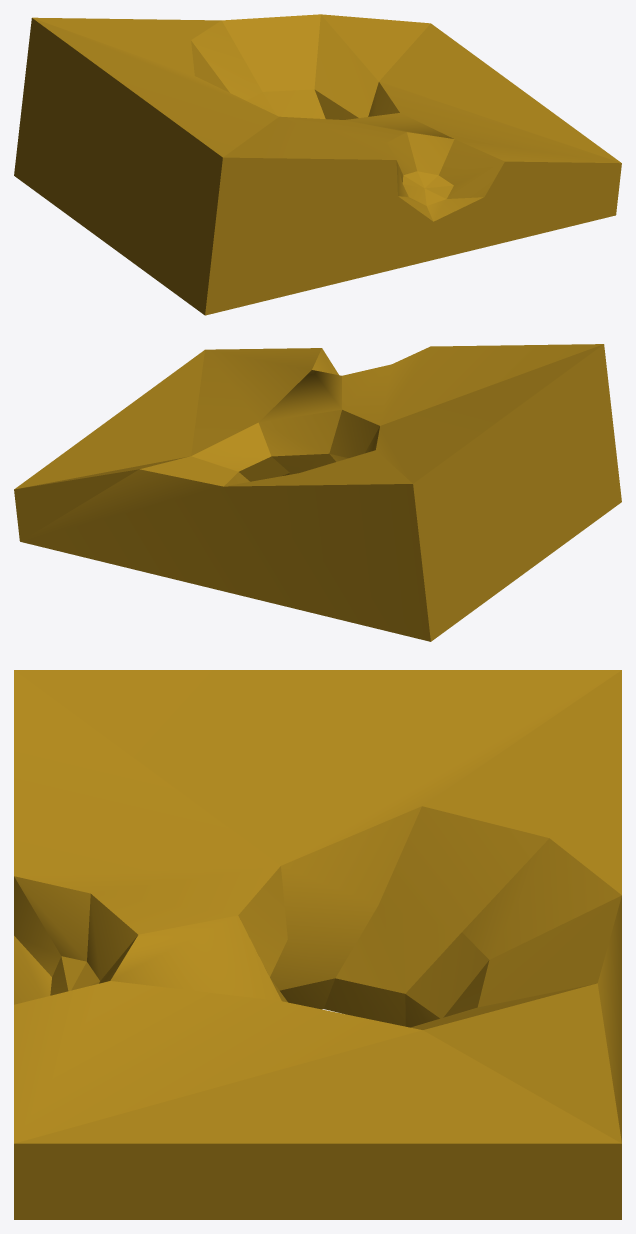
File: Cheese.FBX
3 renders of one model, top to bottom at view 1: azimuth 30°, elevation 25°; view 2: azimuth 150°, elevation 25°; view 3: azimuth 270°, elevation 25°, orthographic. The views are drawn at different scales.
Parts seen in each view (by area): view 1: cheese; view 2: cheese; view 3: cheese.
Boxes of the visible parts, x1,y1,x2,y2 form: cheese: [14, 14, 621, 315]; cheese: [14, 344, 621, 641]; cheese: [14, 670, 621, 1219].
Bounding box in the file's own units: 42.93 × 15.13 × 34.07.
